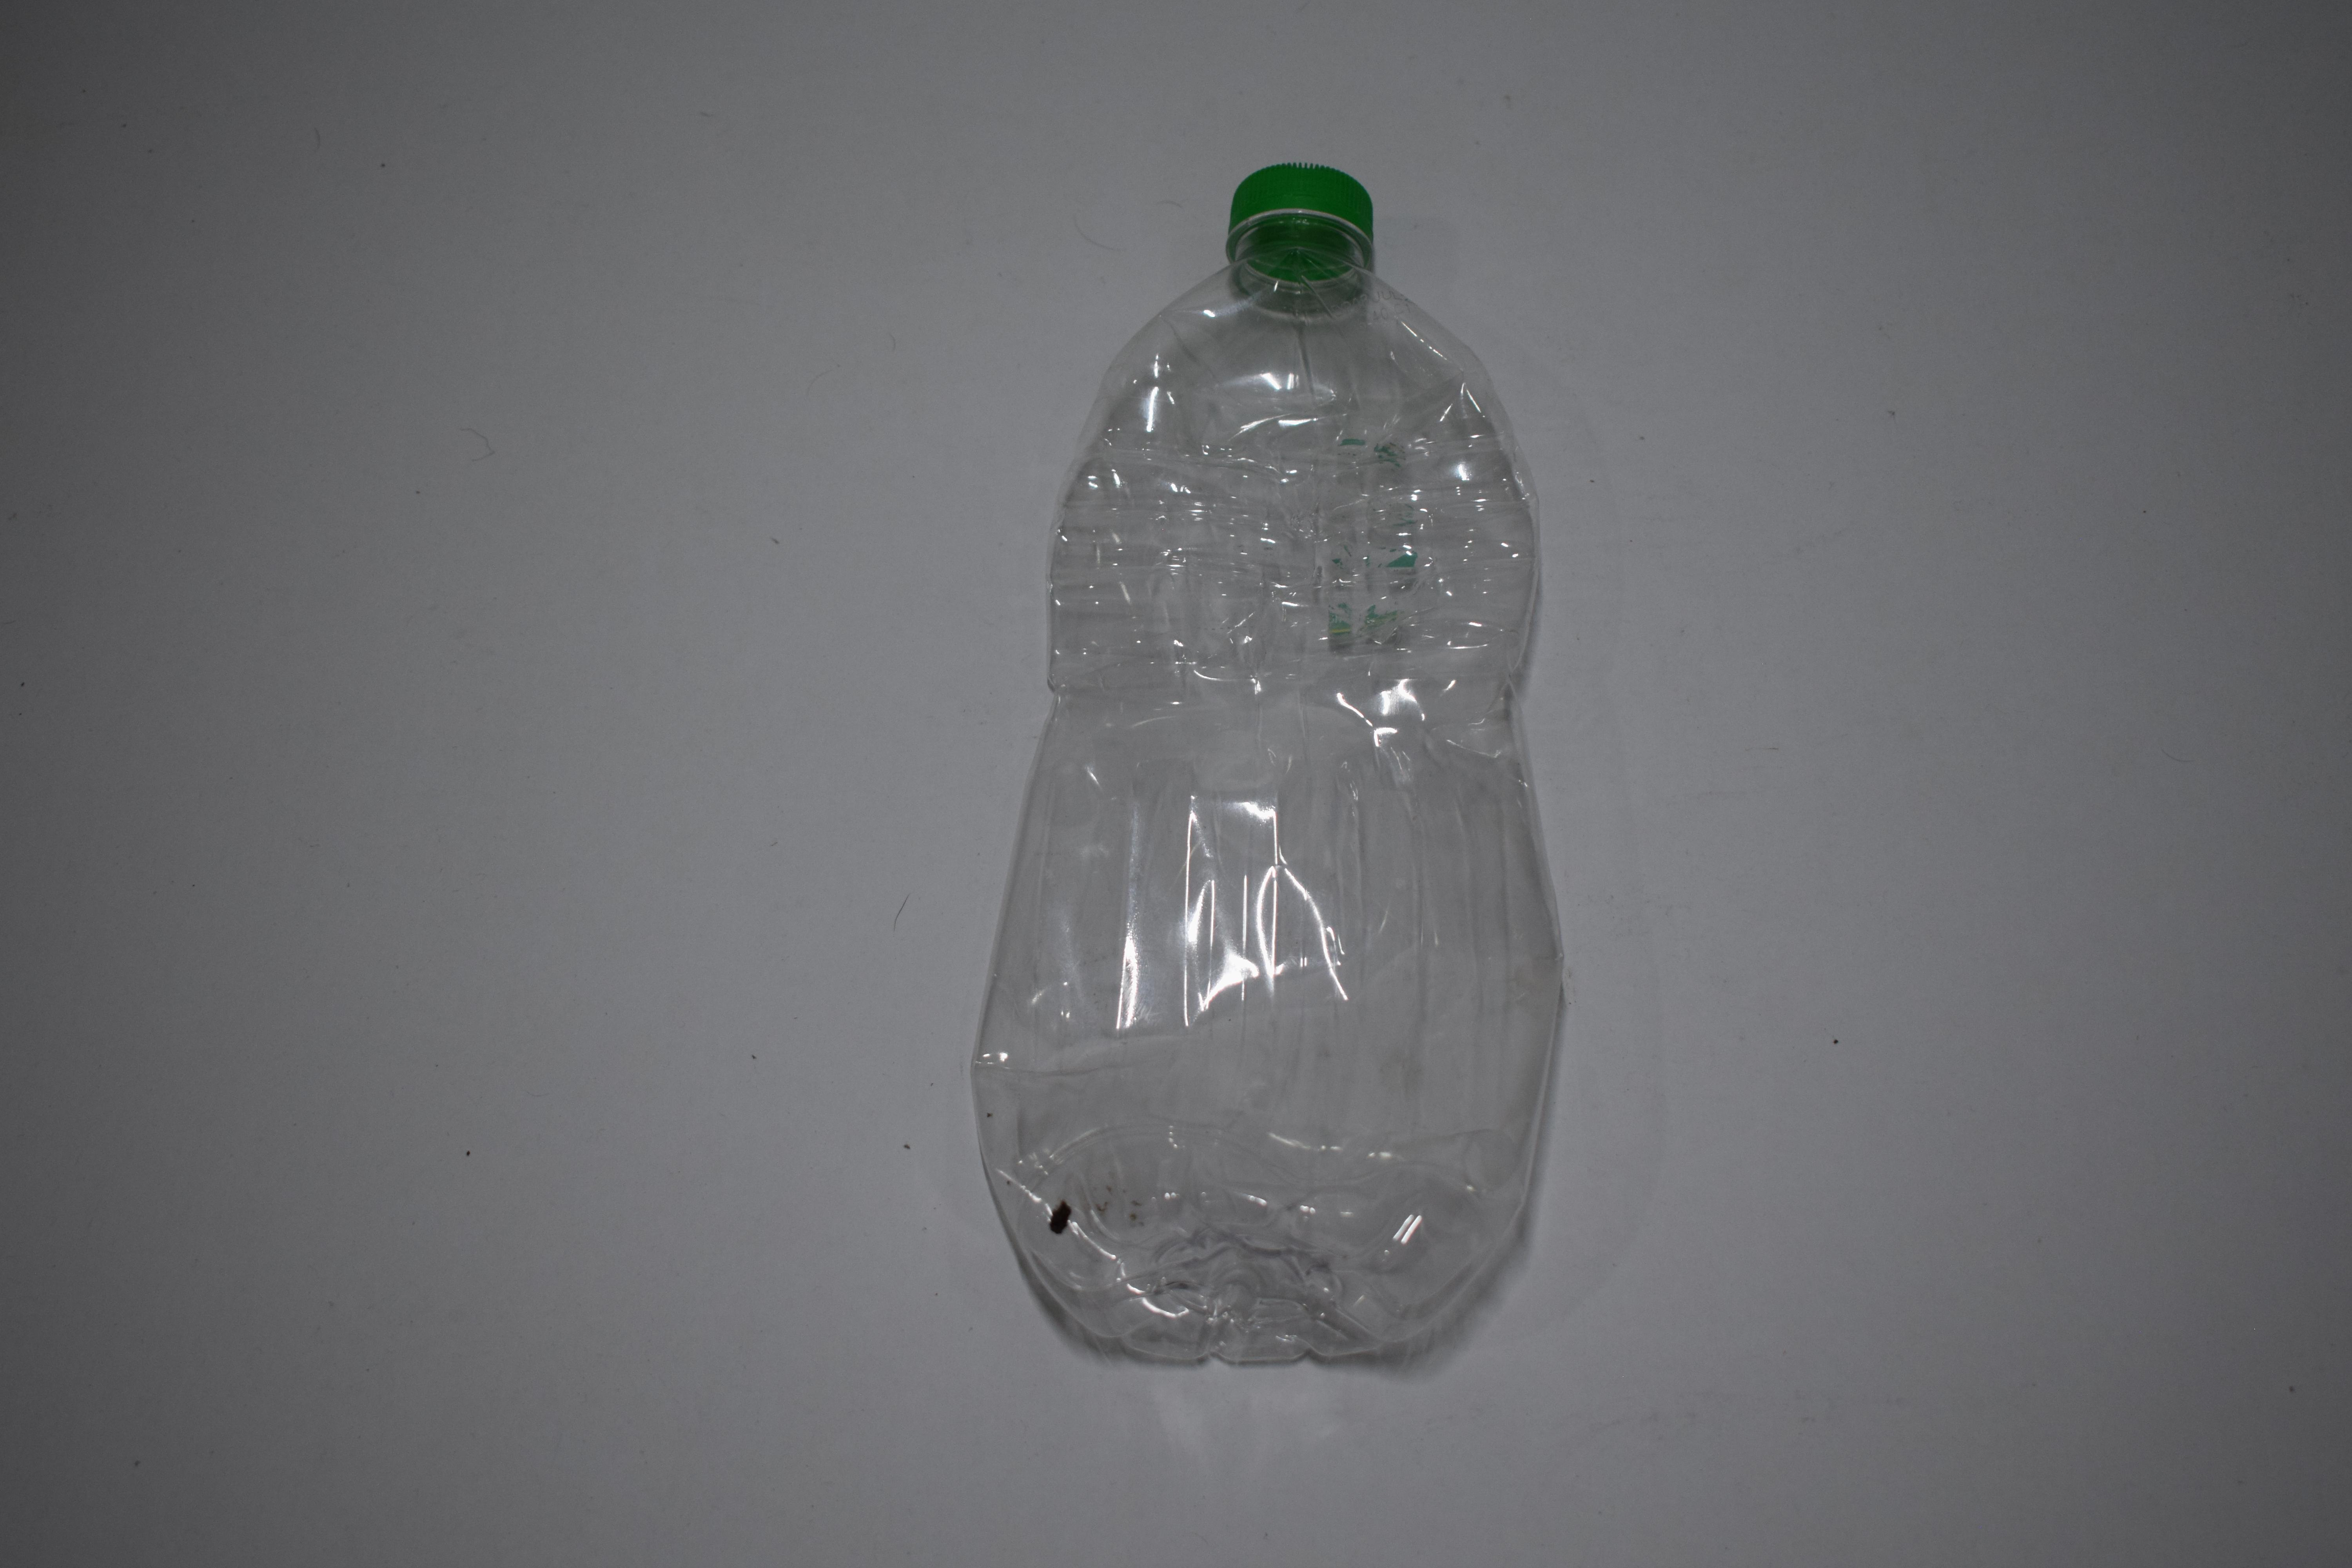bottle: (0, 152, 338, 1375)
